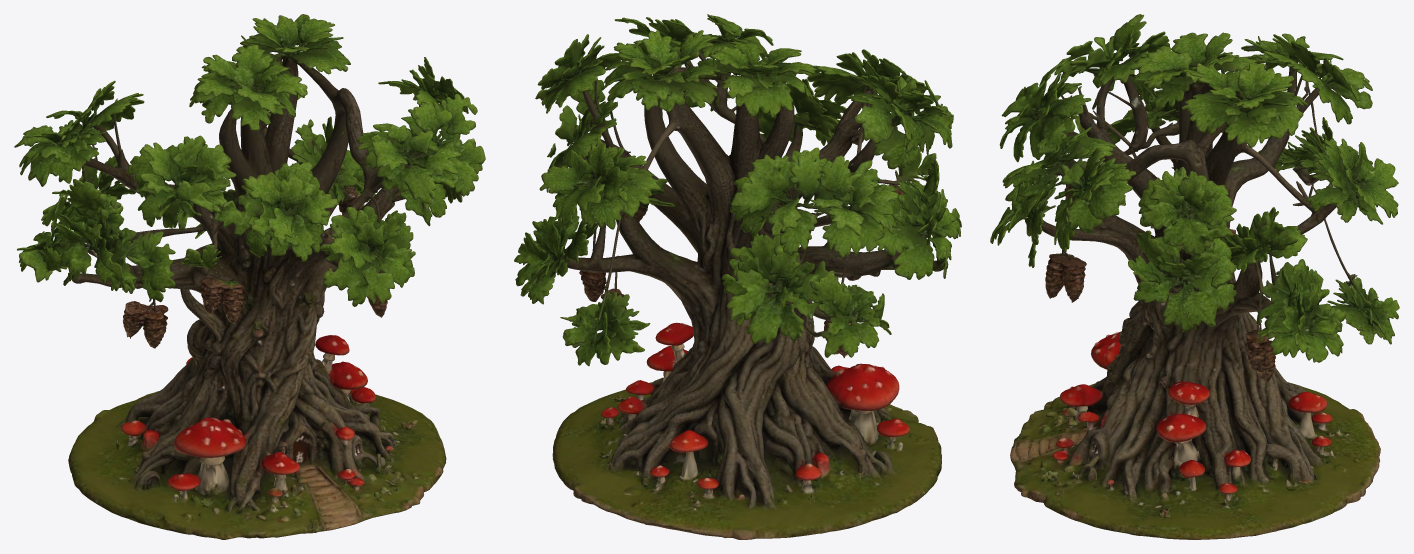
Rendered from glade-tree.glb.
3 views of the same model, side by side, from view 1: azimuth 30°, elevation 25°; view 2: azimuth 150°, elevation 25°; view 3: azimuth 270°, elevation 25° (orthographic). The views are drawn at different scales.
Visible parts, largest first — view 1: tripo_node_c836831d-f7bc-416a-beec-f39f0b2afcd7; view 2: tripo_node_c836831d-f7bc-416a-beec-f39f0b2afcd7; view 3: tripo_node_c836831d-f7bc-416a-beec-f39f0b2afcd7.
Part boxes in pixels (left/top/right/bottom): tripo_node_c836831d-f7bc-416a-beec-f39f0b2afcd7: left=14, top=14, right=485, bottom=539; tripo_node_c836831d-f7bc-416a-beec-f39f0b2afcd7: left=514, top=14, right=961, bottom=539; tripo_node_c836831d-f7bc-416a-beec-f39f0b2afcd7: left=990, top=14, right=1399, bottom=539.
Size of the model in its own units: 0.9994 by 0.9991 by 0.9047.
1 material, 1 textured.
